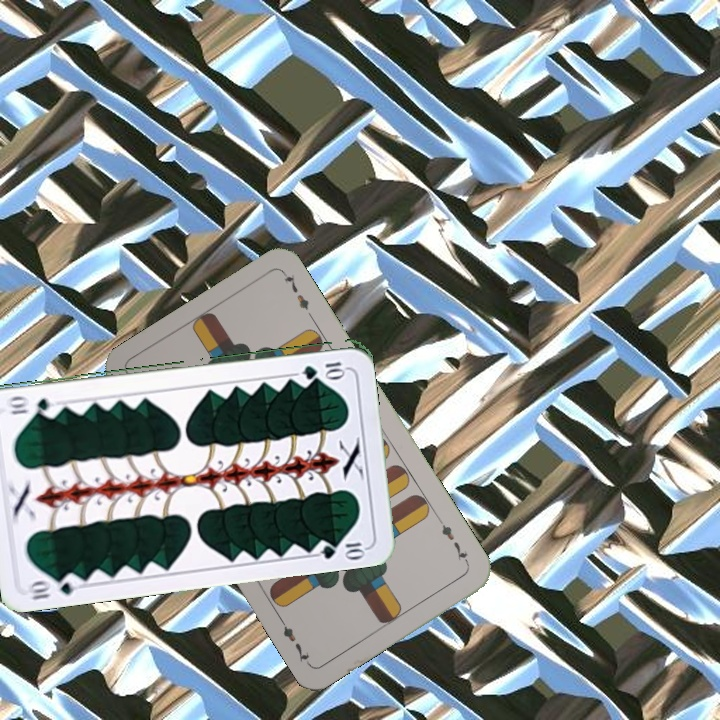E7: (437, 520, 472, 568)
G10: (24, 570, 84, 603), (299, 357, 348, 379)
